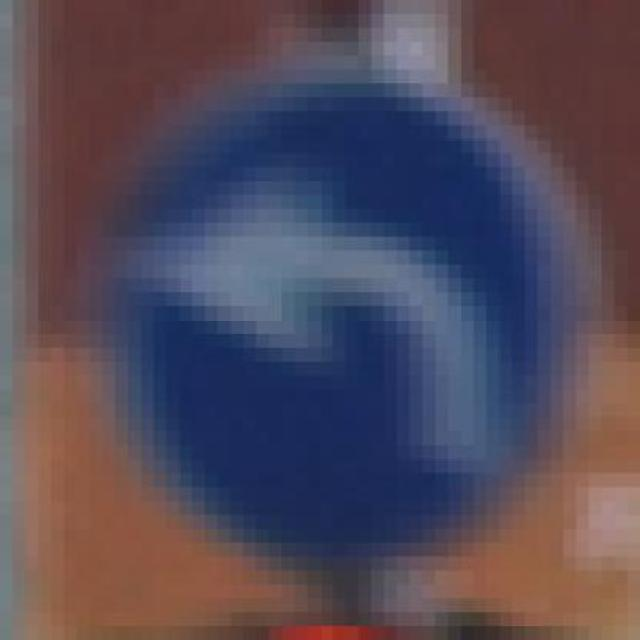Turn left ahead: (64, 69, 627, 585)
